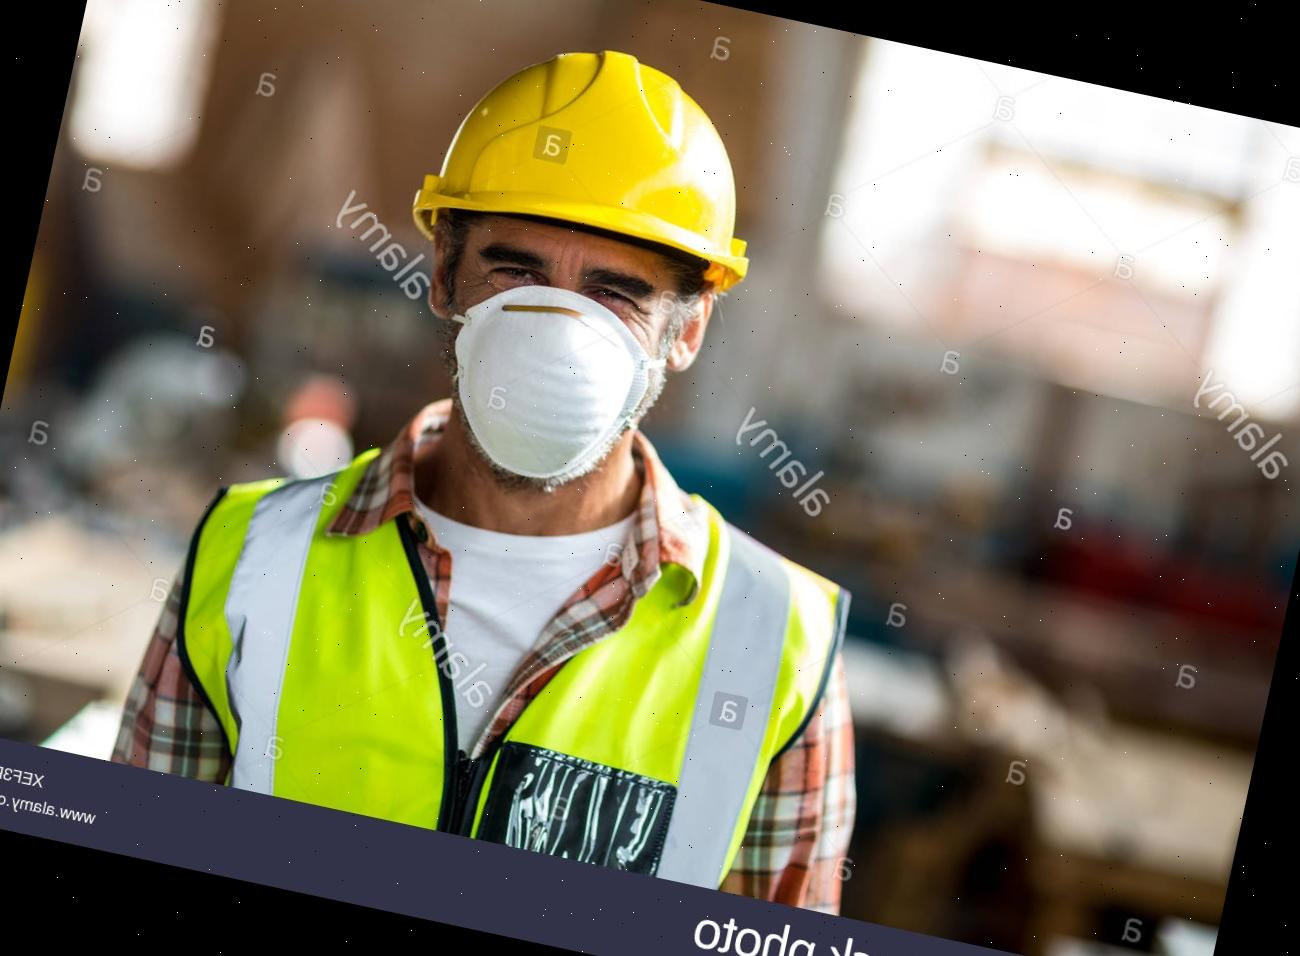helmet: (405, 12, 791, 314)
wear: (135, 405, 886, 912)
